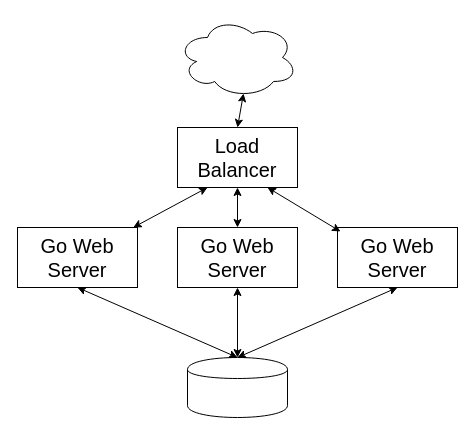
The diagram is 475 pixels wide and 435 high, and some of its shapes have lost their labels. The shapes that lost their labels are listed below. From the top down, each one's box as (x1, y1, x2, y2) in pixels, then its label:
(176, 16, 298, 98): End user
(186, 356, 288, 418): MySQL
